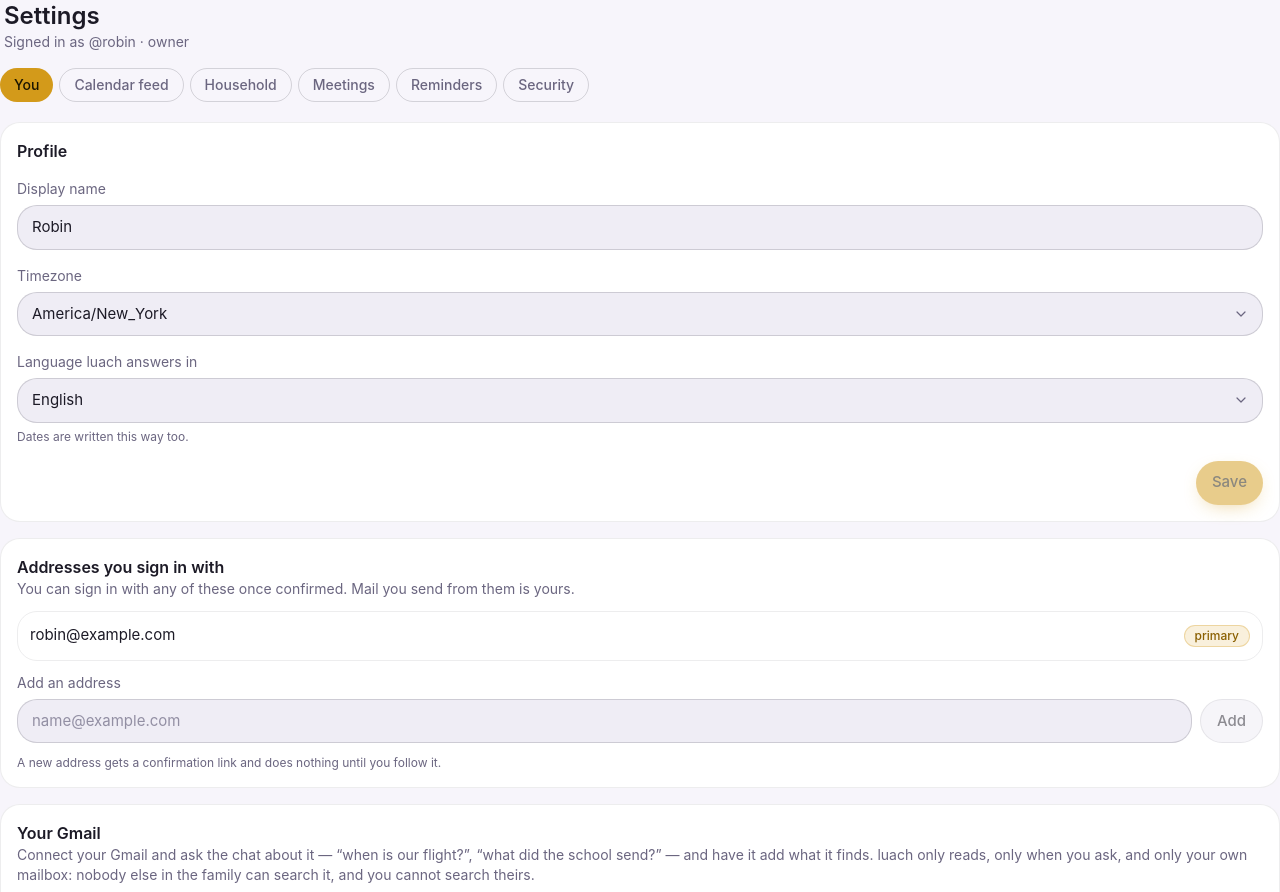
everything a member can set › changes a password only when the two new ones match
This screenshot has width=1280, height=892.
Click the tab "Security" at x=546, y=85, box [503, 68, 589, 102]
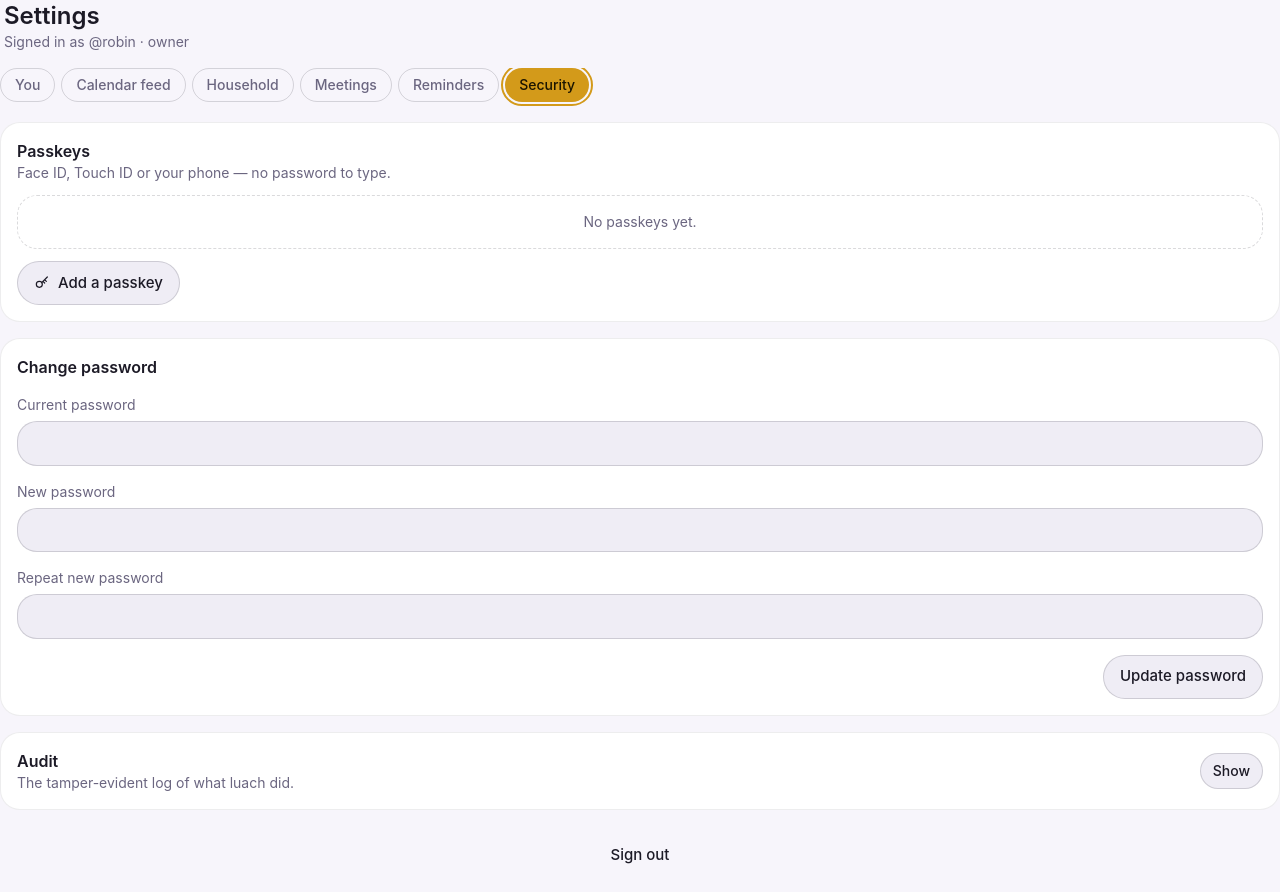
Type "correct horse battery" into the password field labelled "Current password" at x=640, y=443, box [17, 421, 1263, 466]
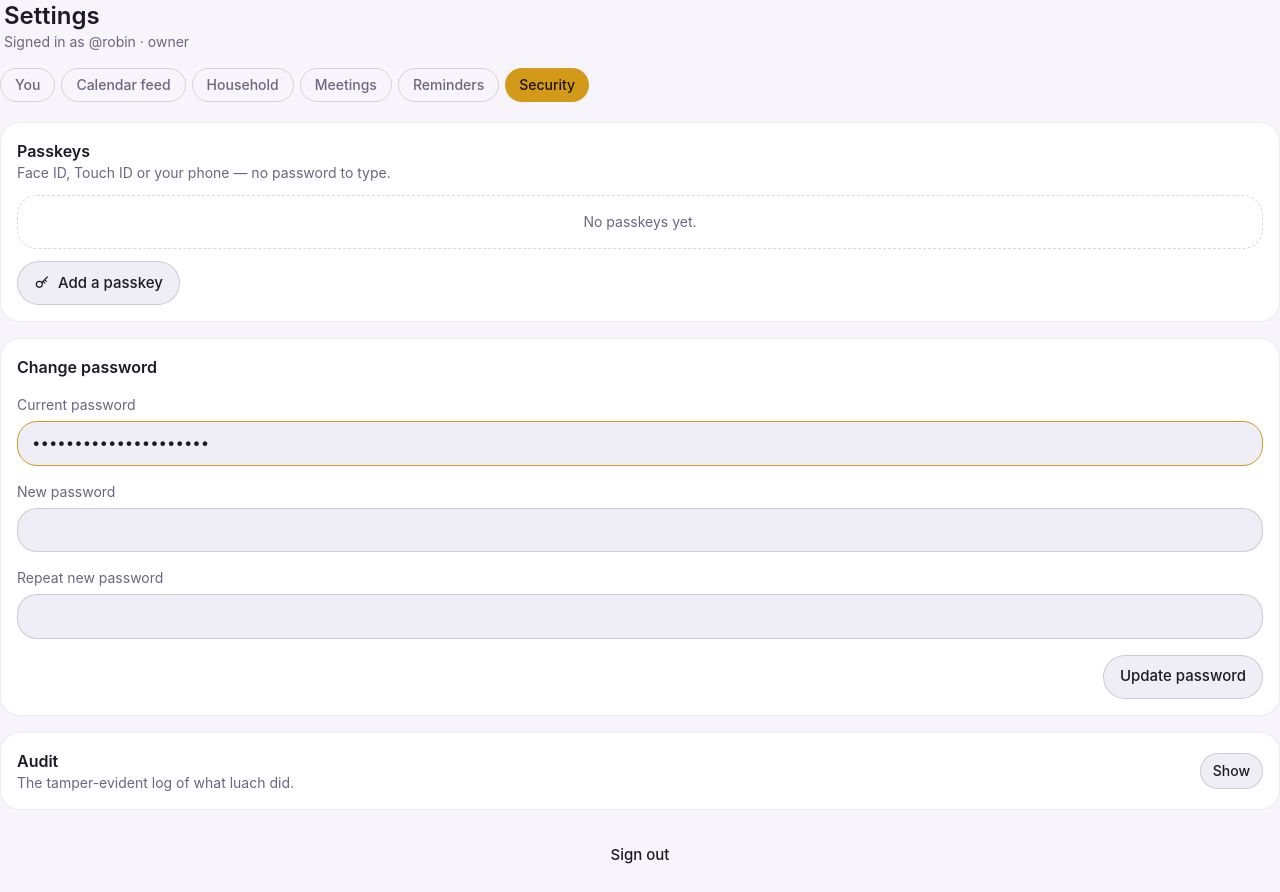
Type "a brand new one" into the password field labelled "New password" at x=640, y=530, box [17, 508, 1263, 552]
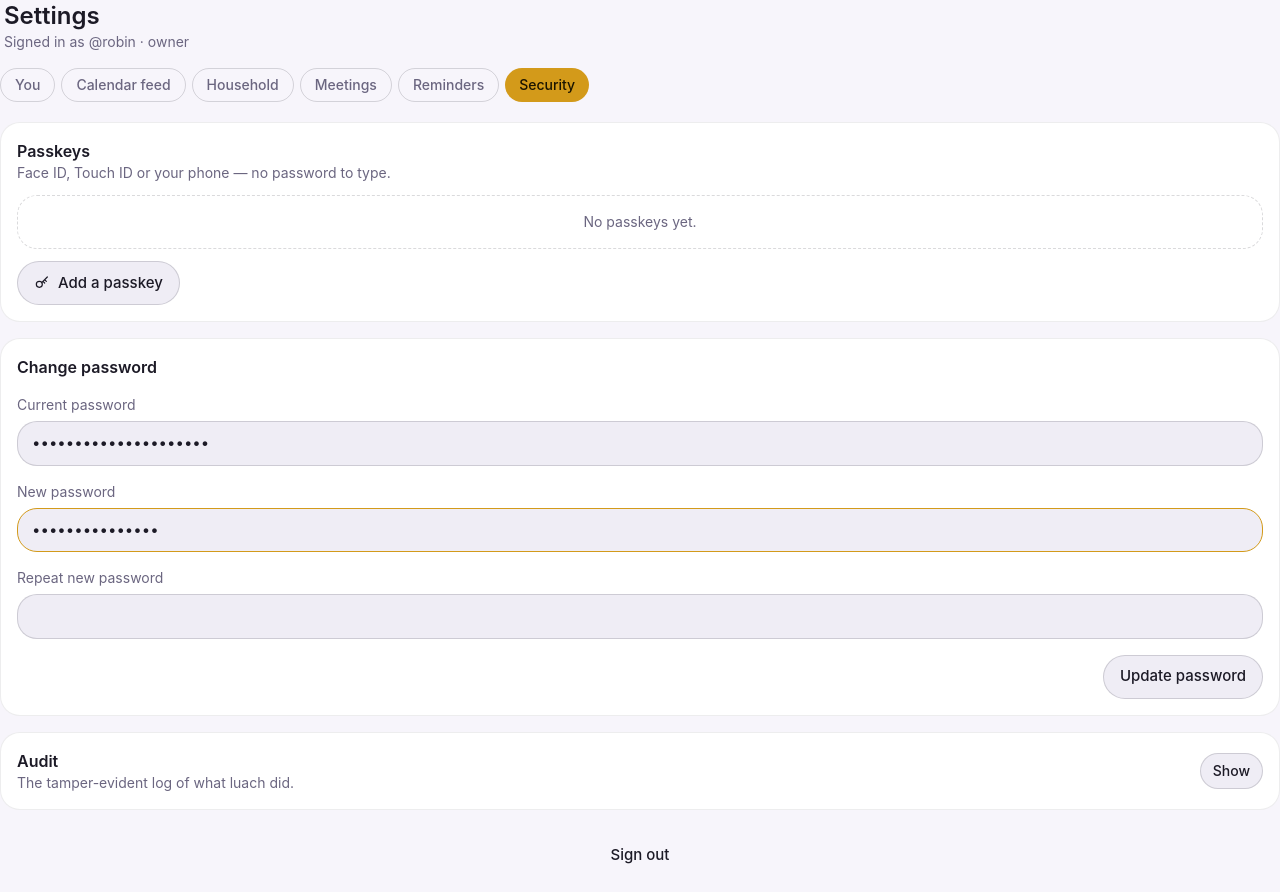
Type "a different one" into the password field labelled "Repeat new password" at x=640, y=616, box [17, 594, 1263, 638]
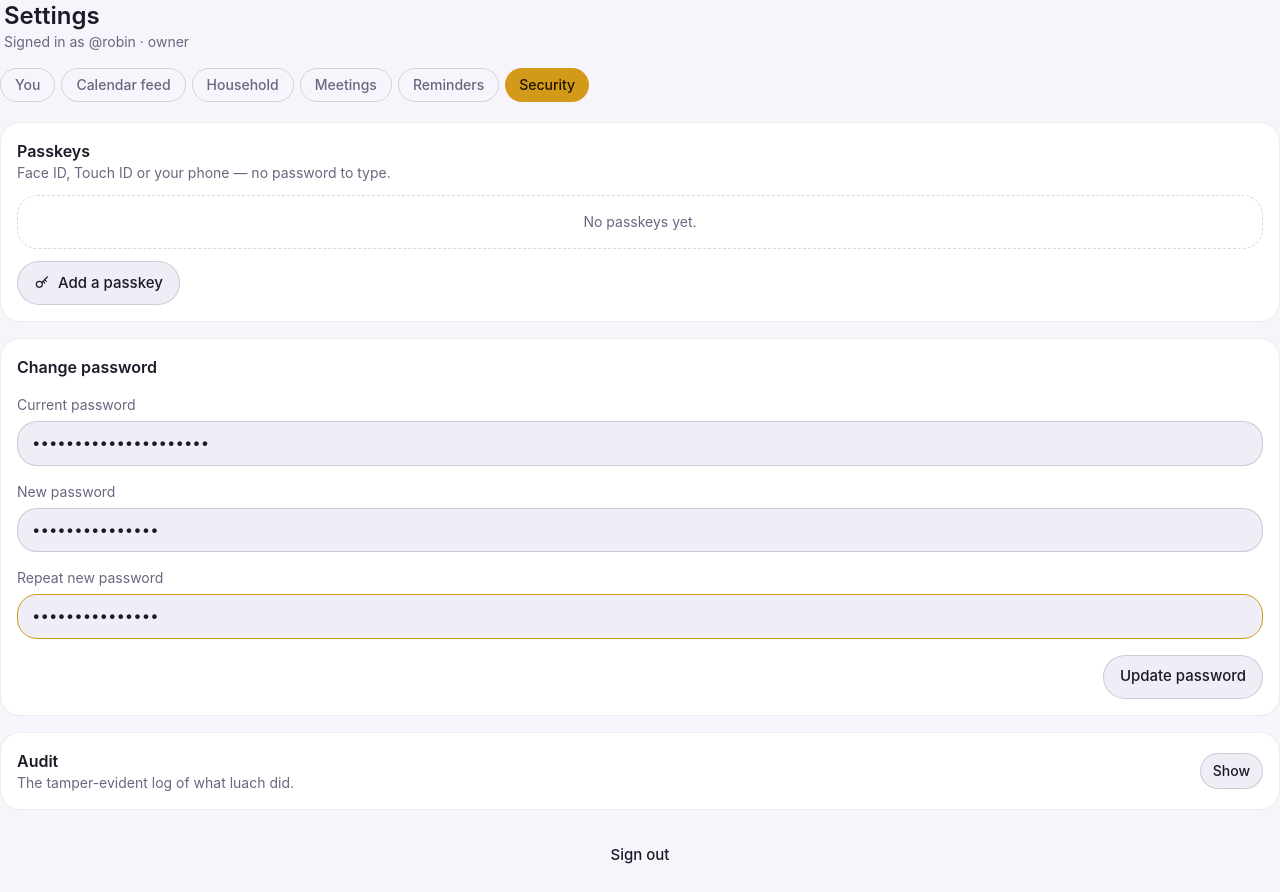
Click the button "Update password" at x=1183, y=676, box [1103, 654, 1263, 698]
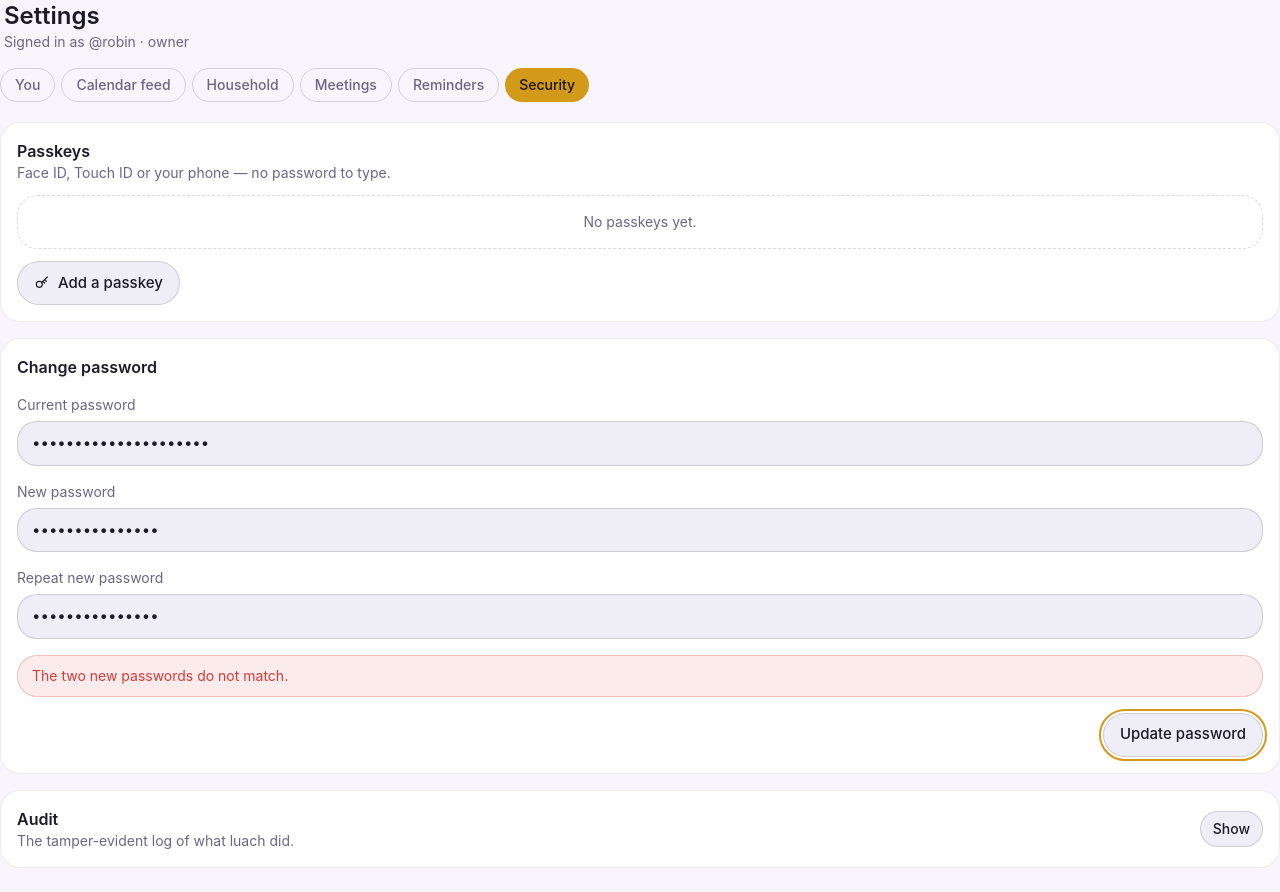
Expected: the text "The two new passwords do not match." is shown, [17, 654, 1263, 696]
